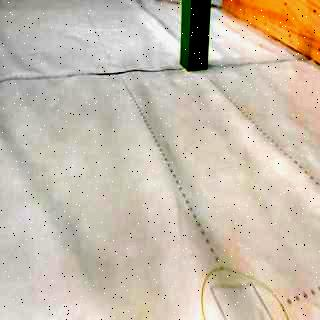greenbox: (178, 0, 213, 71)
